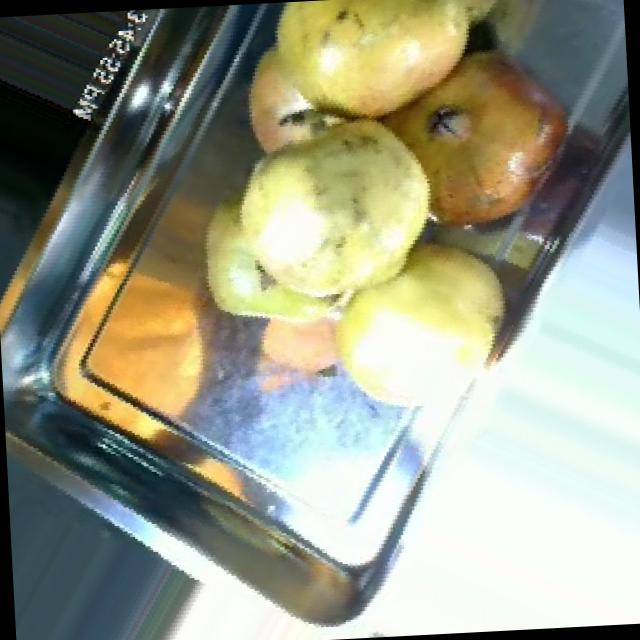fruit: (174, 79, 465, 353), (296, 214, 546, 430), (392, 19, 600, 258)
